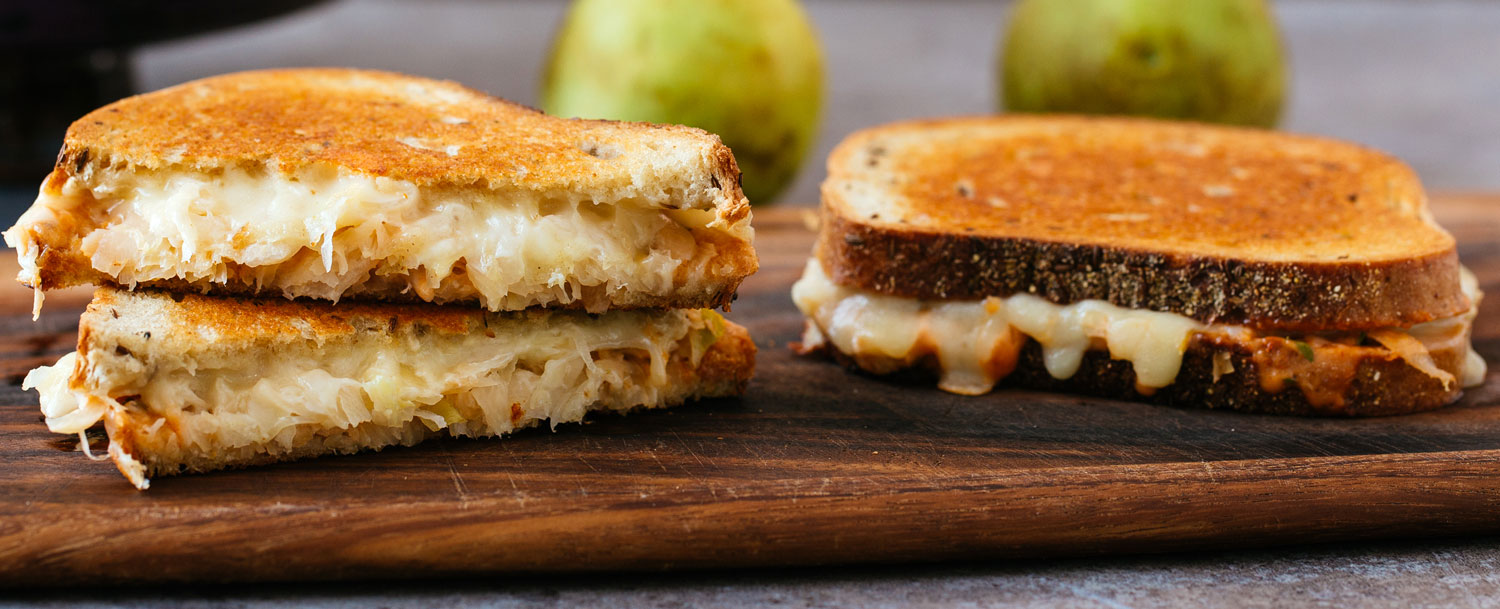cheese: (124, 156, 626, 286), (119, 312, 674, 424), (841, 274, 1226, 401)
